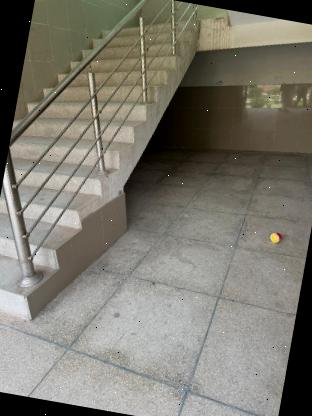stair: (0, 0, 187, 333)
